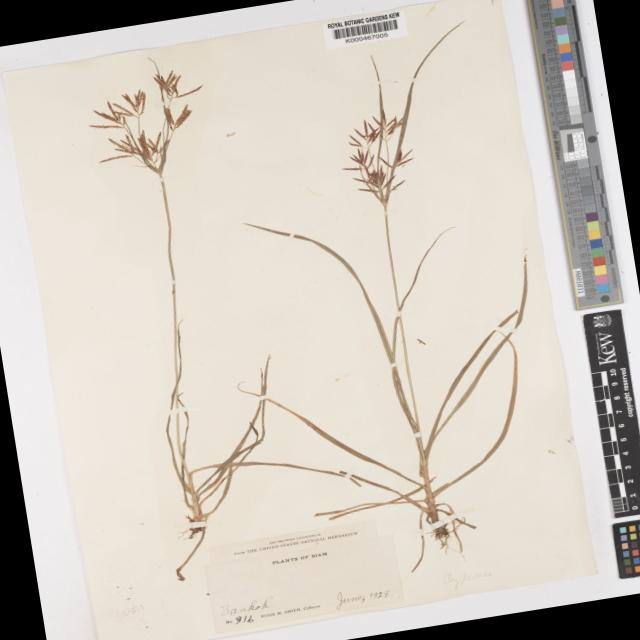cyperus: (76, 64, 222, 188), (334, 108, 430, 211)
